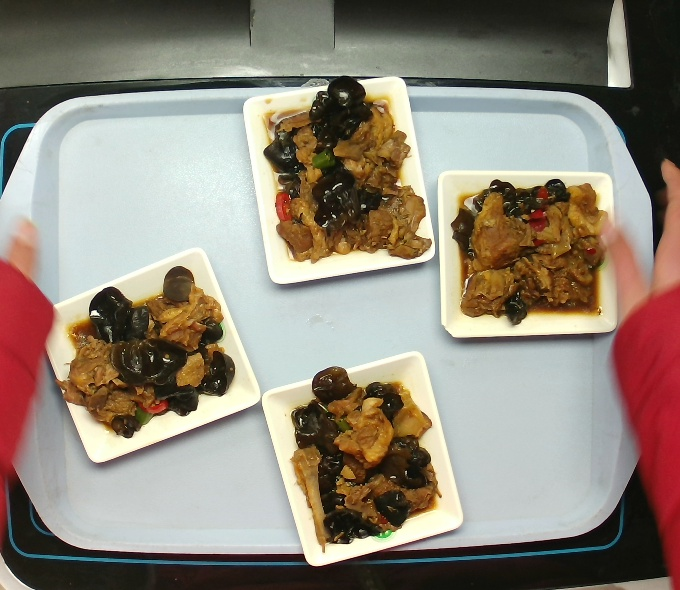wcq-MuErYaRou: (284, 363, 452, 553), (60, 265, 237, 440), (267, 75, 415, 273), (449, 181, 611, 330)
